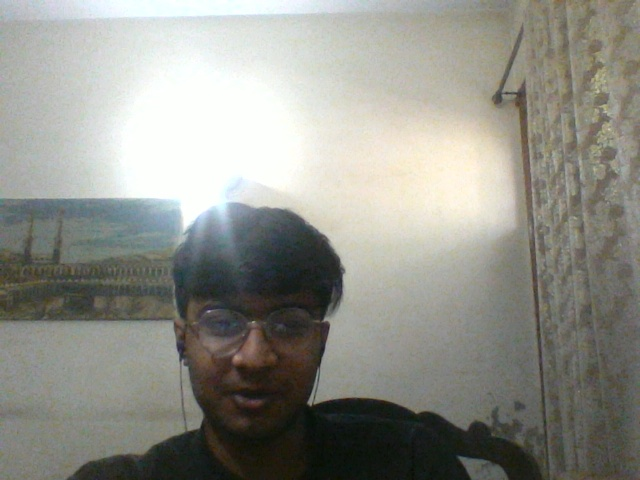surprised: (196, 280, 308, 427)
